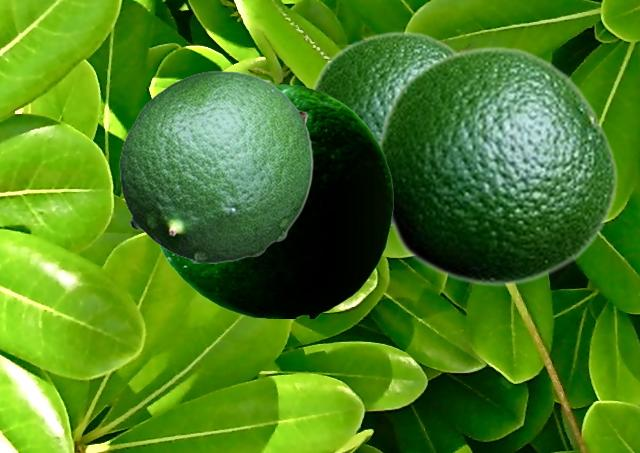calamansi: (374, 45, 618, 287), (156, 79, 392, 317), (119, 70, 312, 262), (308, 30, 458, 138)
